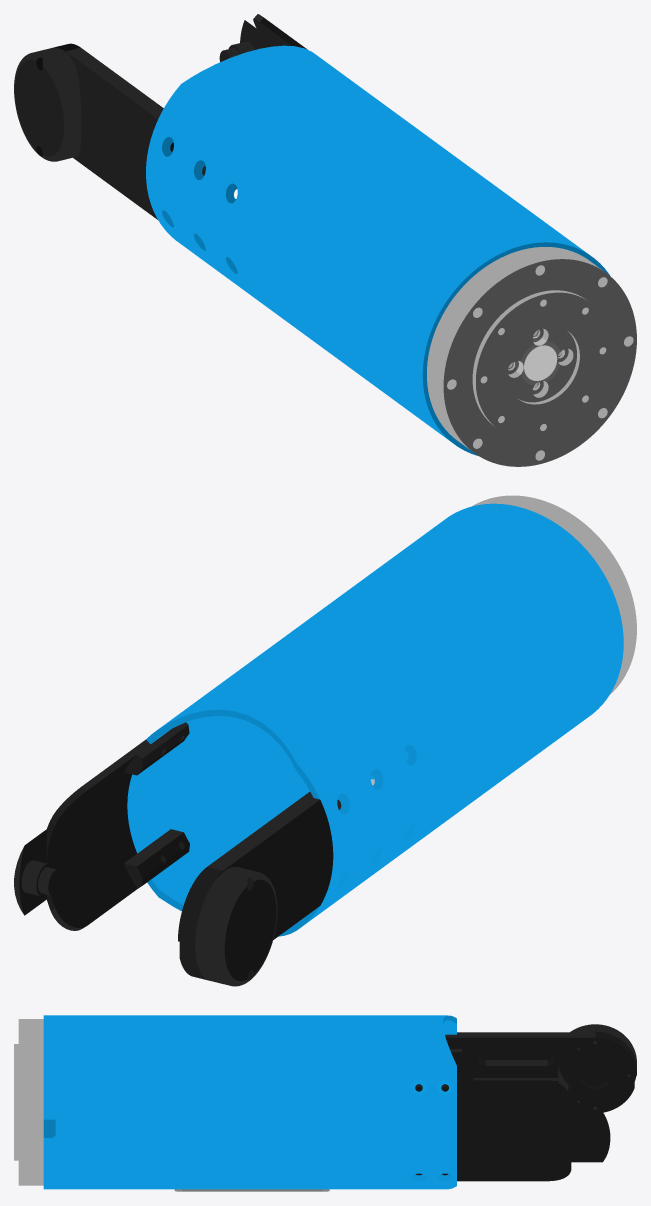
3 renders of one model, top to bottom at view 1: azimuth 30°, elevation 25°; view 2: azimuth 150°, elevation 25°; view 3: azimuth 270°, elevation 25°, orthographic. The views are drawn at different scales.
Visible parts, largest first — view 1: node4, node2, node1, node0, node3, node6; view 2: node4, node6, node1, node0, node2; view 3: node4, node6, node1, node2, node0, node5.
Part boxes in pixels (x1=…): node4: x1=146, y1=45, x2=609, y2=455; node2: x1=427, y1=247, x2=636, y2=466; node1: x1=52, y1=43, x2=205, y2=219; node0: x1=14, y1=47, x2=81, y2=161; node3: x1=508, y1=330, x2=562, y2=388; node6: x1=219, y1=14, x2=307, y2=61; node4: x1=127, y1=503, x2=623, y2=936; node6: x1=14, y1=722, x2=189, y2=930; node1: x1=178, y1=792, x2=341, y2=980; node0: x1=195, y1=867, x2=277, y2=986; node2: x1=472, y1=495, x2=636, y2=694; node4: x1=43, y1=1015, x2=456, y2=1189; node6: x1=415, y1=1080, x2=610, y2=1181; node1: x1=416, y1=1032, x2=636, y2=1112; node2: x1=14, y1=1019, x2=43, y2=1185; node0: x1=558, y1=1024, x2=636, y2=1085; node5: x1=174, y1=1189, x2=329, y2=1191.
Bounding box in the file's own units: 78 × 74 × 262.
